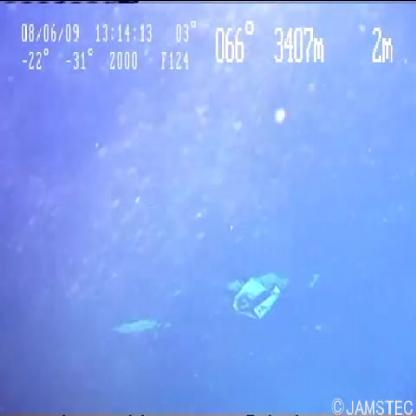Rác: (216, 261, 302, 329)
